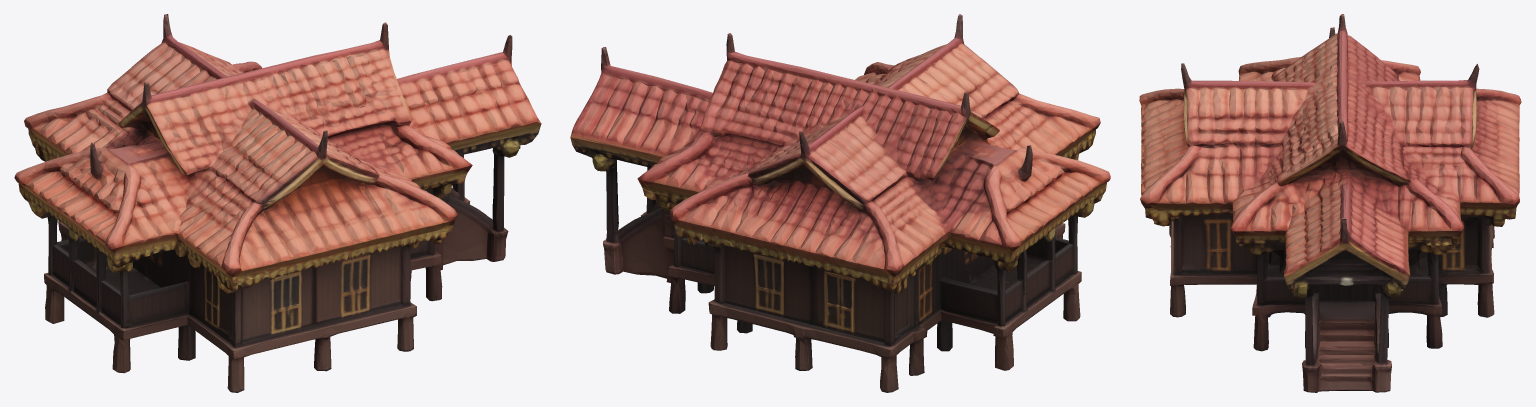
The model's file is kepulauan-riau.glb.
3 views of the same model, side by side, from view 1: azimuth 30°, elevation 25°; view 2: azimuth 150°, elevation 25°; view 3: azimuth 270°, elevation 25° (orthographic). The views are drawn at different scales.
Parts seen in each view (by area): view 1: world; view 2: world; view 3: world.
Part boxes in pixels (x1,y1,x2,y2): world: (14,14,541,392); world: (570,14,1110,392); world: (1139,14,1521,392).
Size of the model in its own units: 0.624 by 0.3204 by 0.489.
1 material, 1 textured.
